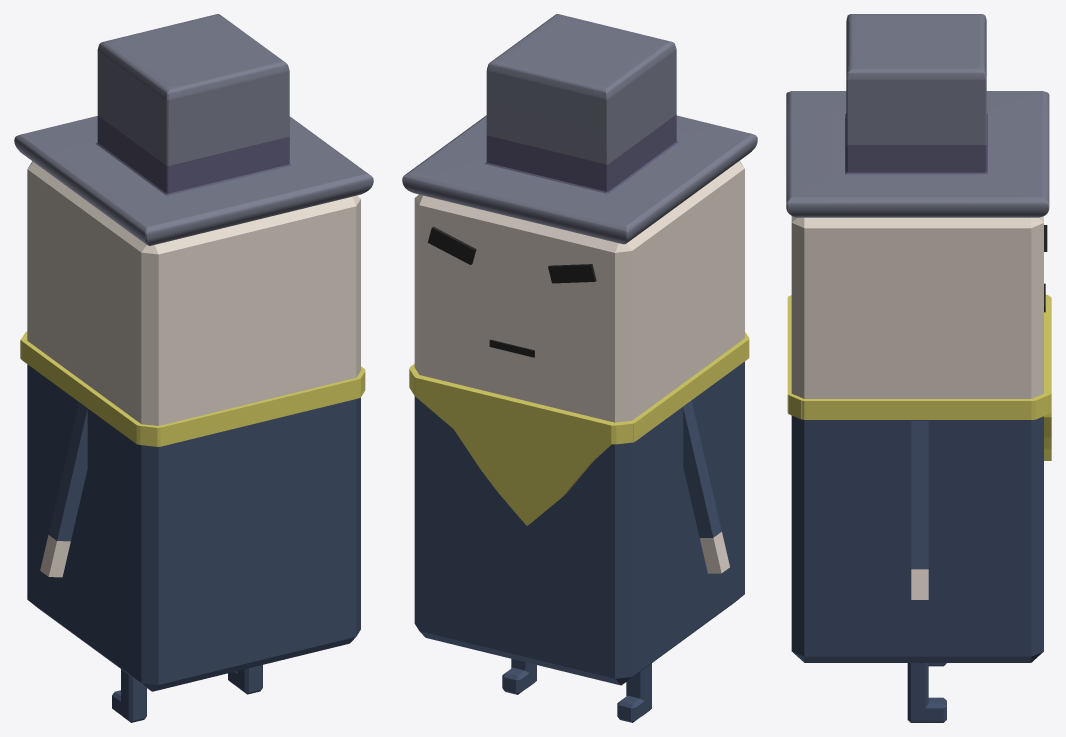
Rendered from Enemie Model.fbx.
3 views of the same model, side by side, from view 1: azimuth 30°, elevation 25°; view 2: azimuth 150°, elevation 25°; view 3: azimuth 270°, elevation 25° (orthographic).
Visible parts, largest first — view 1: Body, Hat, pCube5, pCube2, pCube1; view 2: Body, Hat, pCube5, Left_Eyebrow, Right_Eyebrow, pCube2, pCube3, pCube4; view 3: Body, Hat, pCube6, pCube1, pCube3.
Boxes of the visible parts, box(x1,y1,x2,y2) form: Body: box(20, 161, 365, 691); Hat: box(14, 14, 373, 245); pCube5: box(40, 403, 87, 577); pCube2: box(121, 669, 146, 722); pCube1: box(237, 665, 262, 694); Body: box(409, 160, 749, 685); Hat: box(402, 14, 757, 244); pCube5: box(683, 401, 729, 573); Left_Eyebrow: box(427, 226, 476, 264); Right_Eyebrow: box(548, 264, 596, 283); pCube2: box(626, 663, 651, 715); pCube3: box(502, 667, 533, 694); pCube4: box(617, 695, 644, 722); Body: box(787, 216, 1051, 662); Hat: box(786, 14, 1049, 217); pCube6: box(911, 420, 928, 599); pCube1: box(907, 663, 928, 722); pCube3: box(916, 697, 946, 722).
Size of the model in its own units: 6.61 by 13.85 by 5.12.
